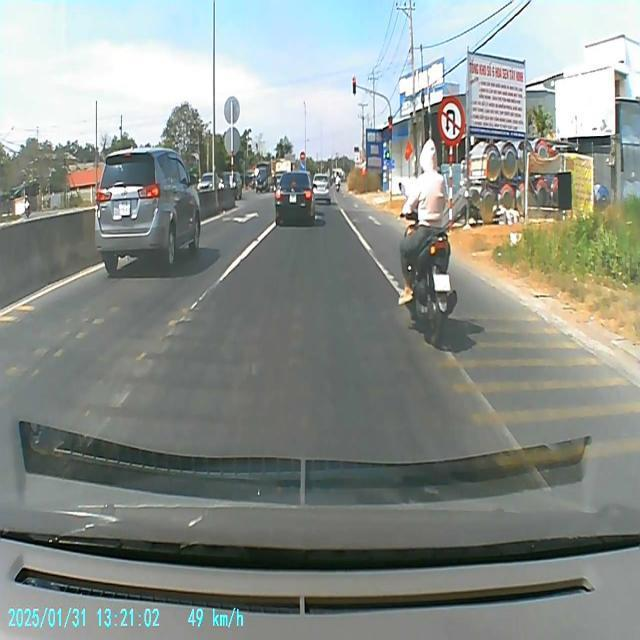102-cam-di-nguoc-chieu: (299, 150, 305, 162)
124a-cam-quay-dau-xe: (438, 96, 466, 144)
302a-huong-phai-di-vong-chuong-ngai-vat-1: (301, 162, 307, 172)
